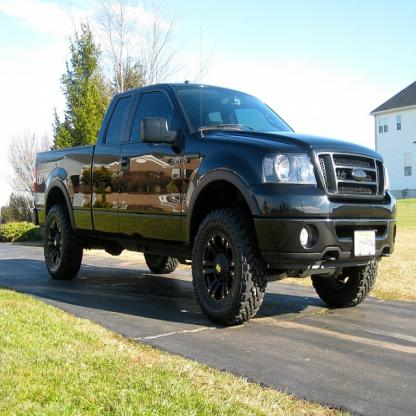Vehicle: (30, 84, 397, 327)
